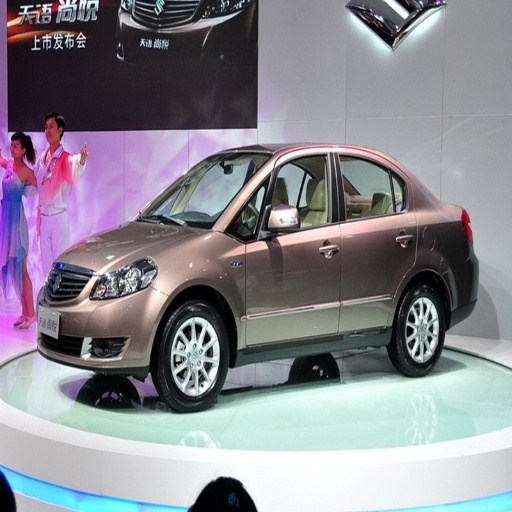back_left_door: (334, 150, 415, 330)
front_bumper: (35, 262, 168, 371)
front_glass: (137, 152, 263, 227)
front_left_door: (244, 150, 338, 343)
